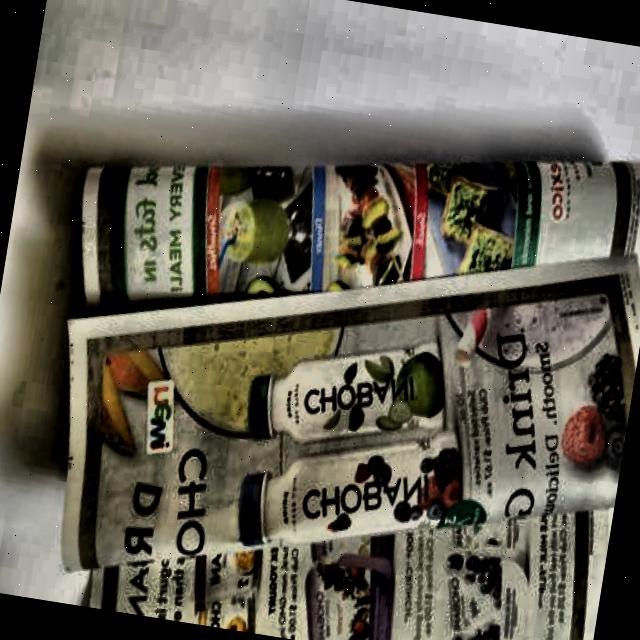paper: (19, 77, 640, 640)
